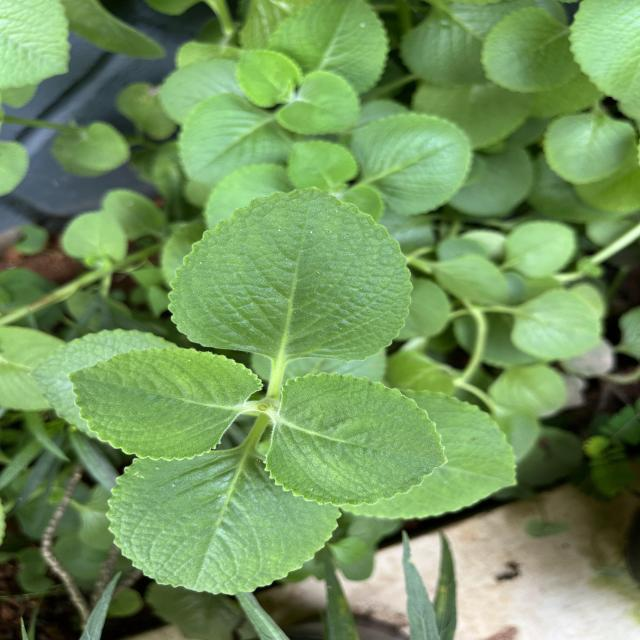Plectranthus barbatus: (166, 184, 415, 363), (104, 456, 344, 597), (262, 371, 449, 508), (67, 346, 266, 462), (350, 111, 474, 218), (266, 0, 392, 100), (177, 91, 295, 182), (479, 5, 579, 94), (541, 112, 636, 186), (509, 286, 601, 361), (275, 70, 361, 136), (286, 140, 362, 192)
